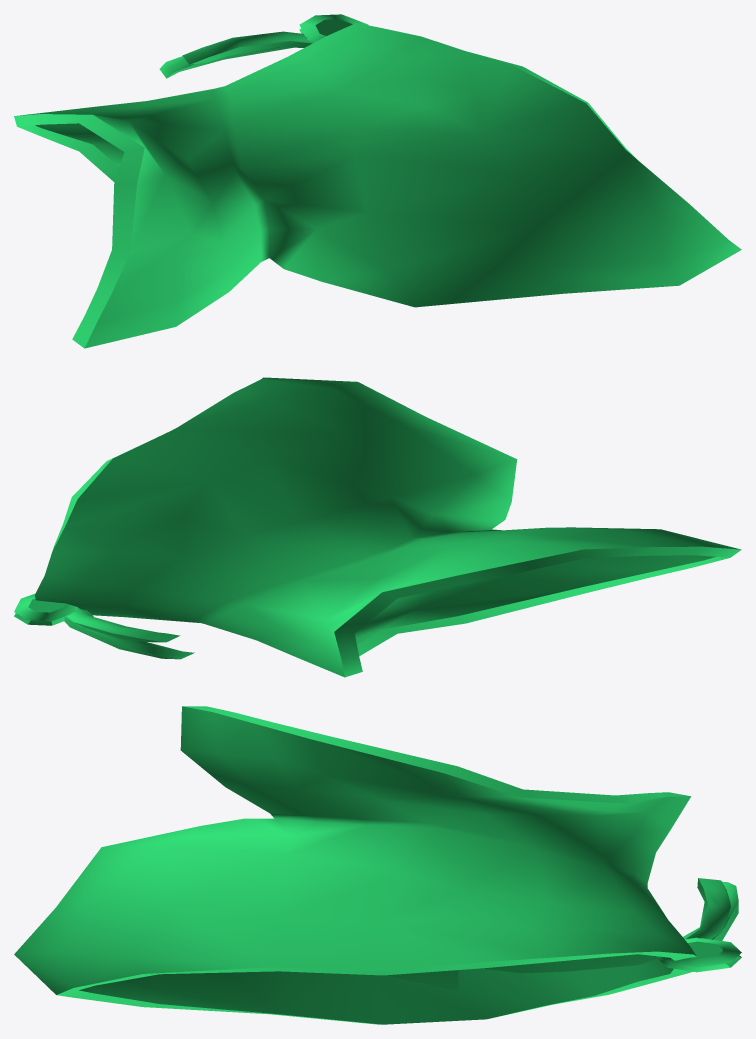
File: W_Bandana_Mask.FBX
The picture shows the model from 3 angles, top to bottom: view 1: azimuth 30°, elevation 25°; view 2: azimuth 150°, elevation 25°; view 3: azimuth 270°, elevation 25°; orthographic projection. The views are drawn at different scales.
Parts seen in each view (by area): view 1: Object001; view 2: Object001; view 3: Object001.
Boxes of the visible parts, left/top/right/bottom form: Object001: left=14, top=14, right=741, bottom=348; Object001: left=14, top=377, right=741, bottom=677; Object001: left=14, top=706, right=741, bottom=1024.
Bounding box in the file's own units: 14.85 × 1.3 × 15.54.
